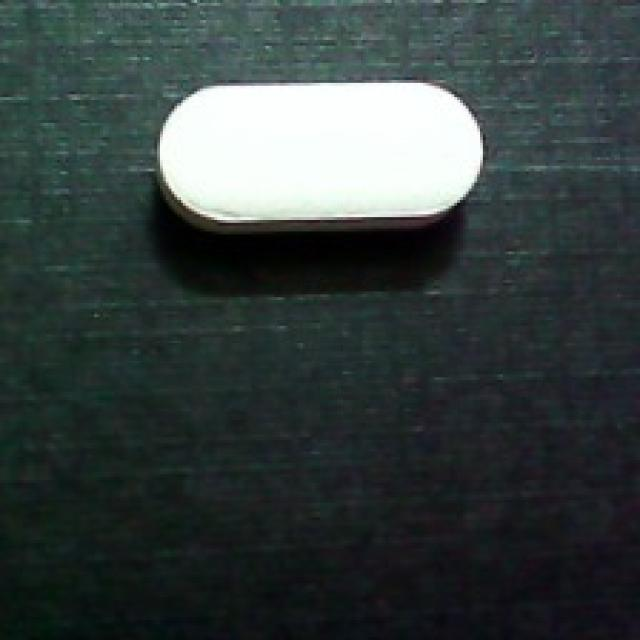no-defect: (154, 80, 489, 243)
